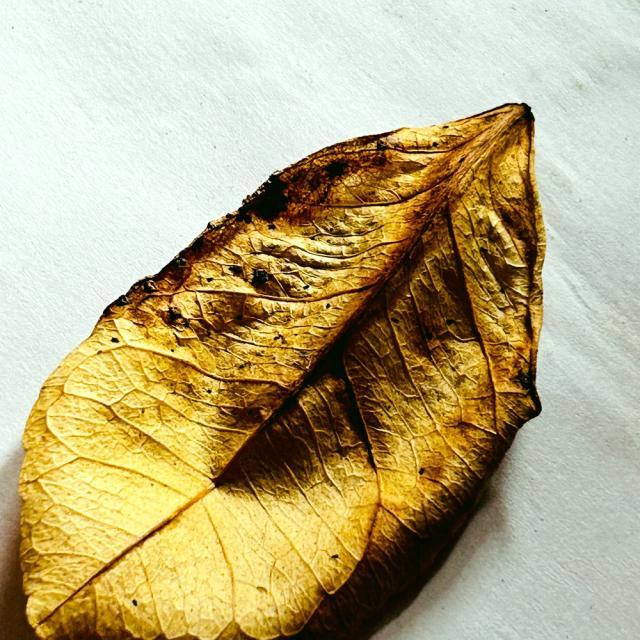DryLeaf_Lemon: (19, 104, 545, 639)
